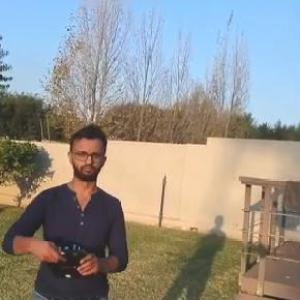follow: (0, 116, 127, 299)
